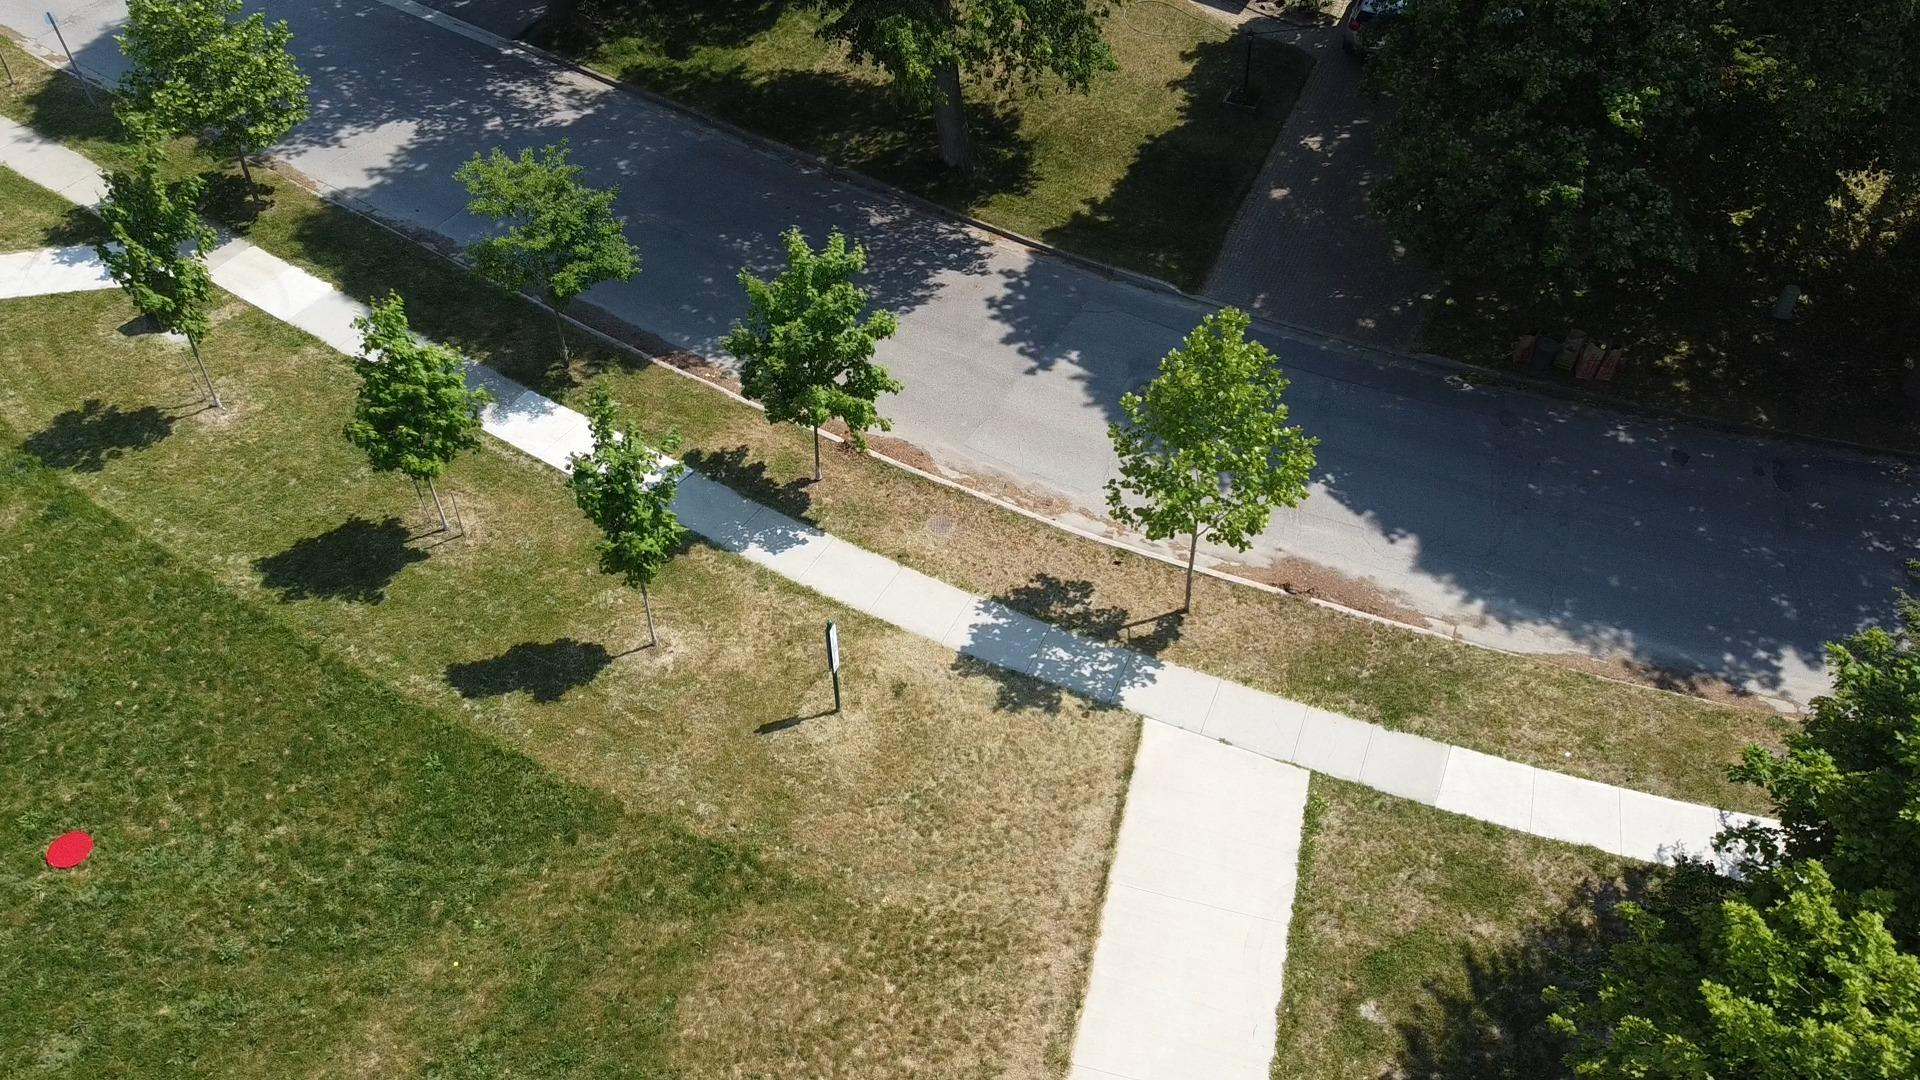Red: (45, 829, 96, 870)
